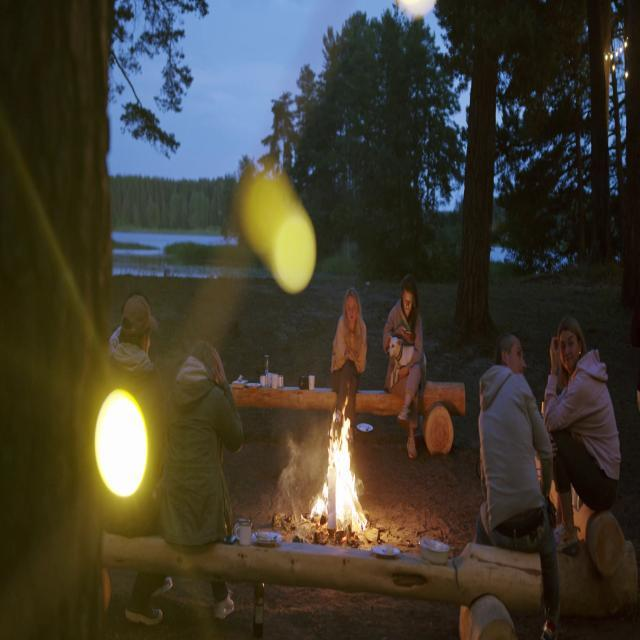Fire: (308, 399, 372, 543)
